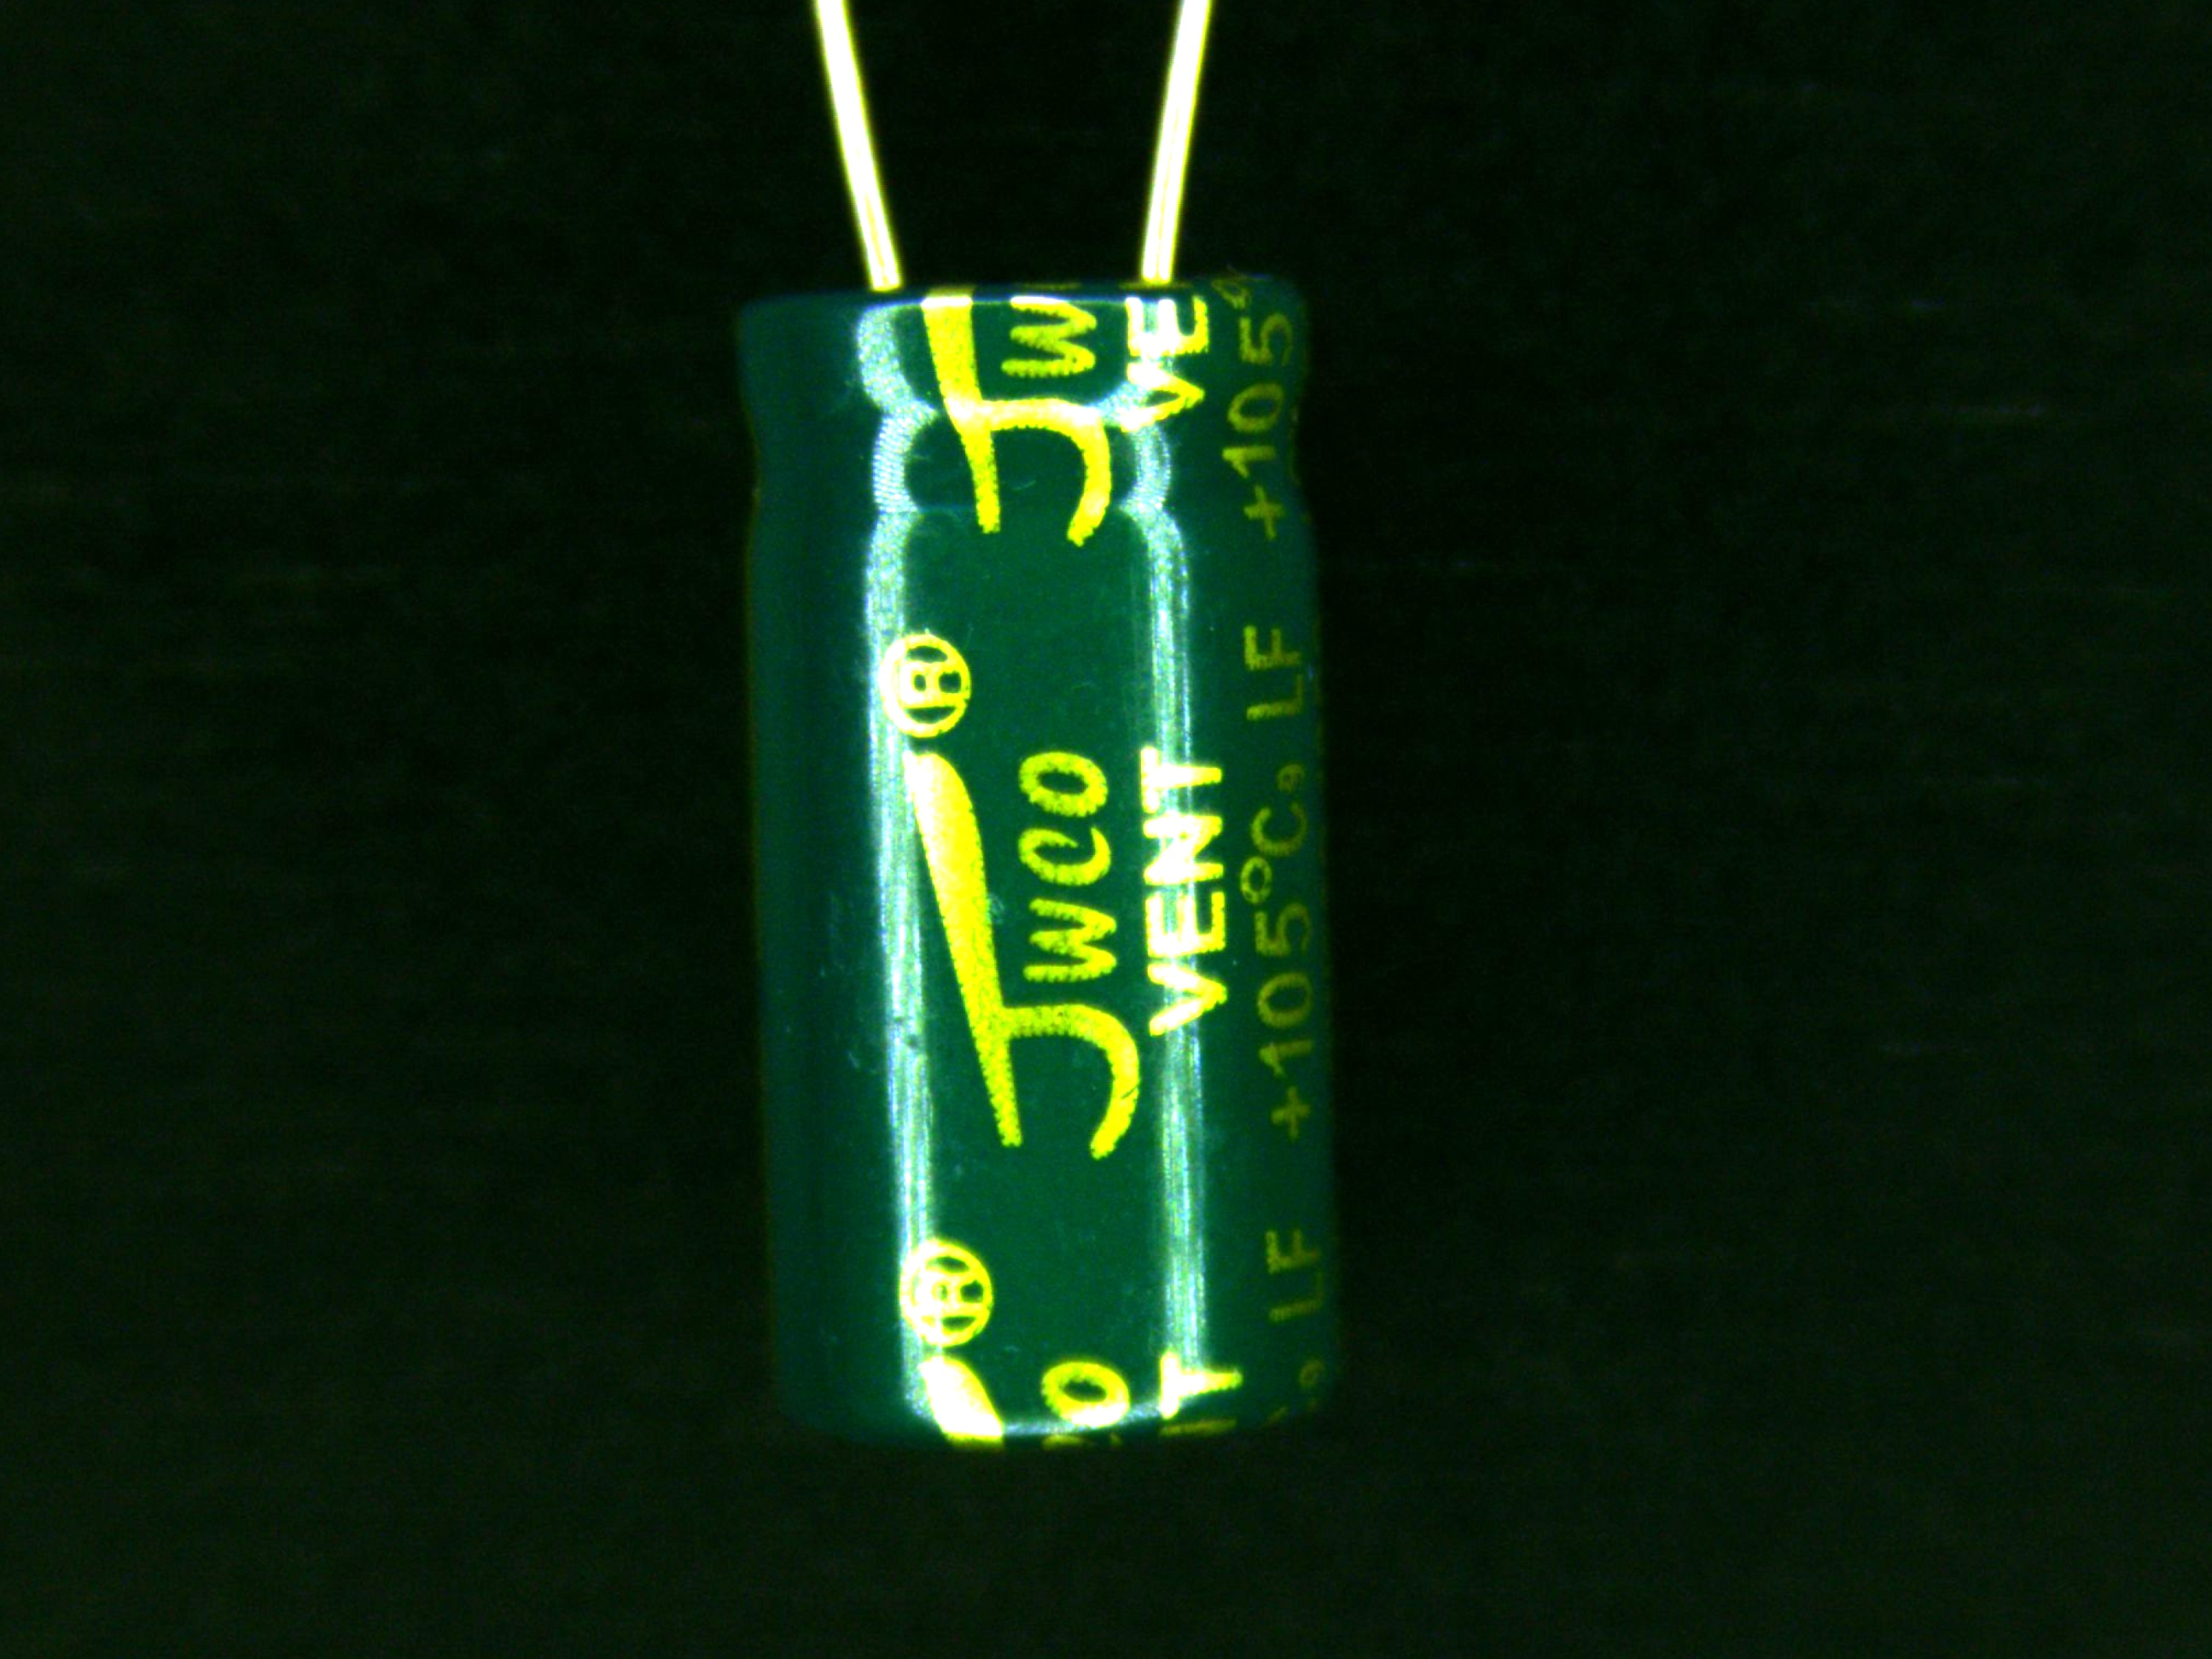c1: (723, 132, 1352, 1453)
